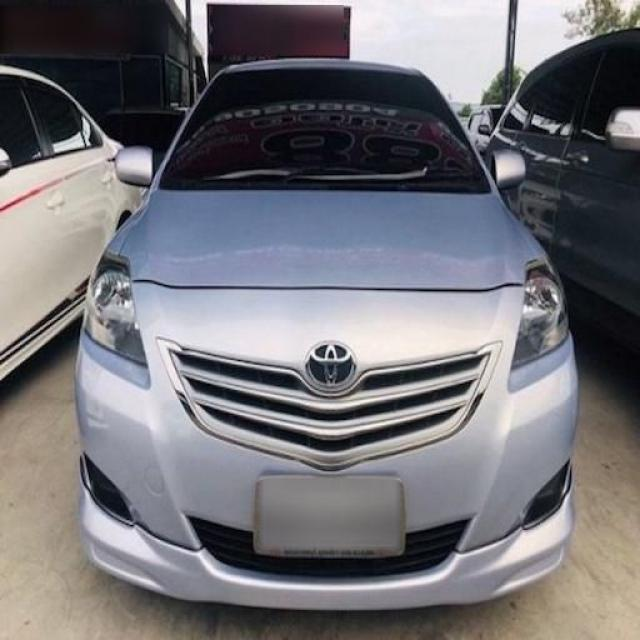front_bumper: (74, 282, 579, 610)
front_glass: (158, 66, 493, 193)
front_left_light: (512, 254, 568, 371)
front_right_light: (81, 248, 147, 366)
hood: (121, 190, 536, 290)
left_mirror: (490, 148, 526, 191)
right_mirror: (115, 144, 156, 188)
